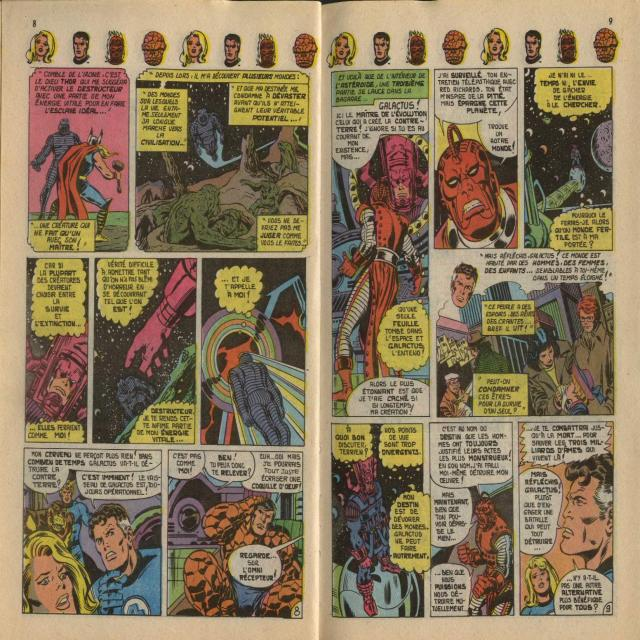comic_panel: (330, 67, 431, 418), (133, 67, 310, 256), (436, 250, 616, 418), (20, 445, 164, 619), (166, 447, 305, 621), (90, 255, 198, 448), (200, 256, 306, 450), (27, 67, 132, 255), (330, 421, 429, 619), (517, 419, 616, 617), (427, 420, 517, 620), (522, 64, 615, 256), (431, 67, 520, 251), (23, 254, 90, 446)
